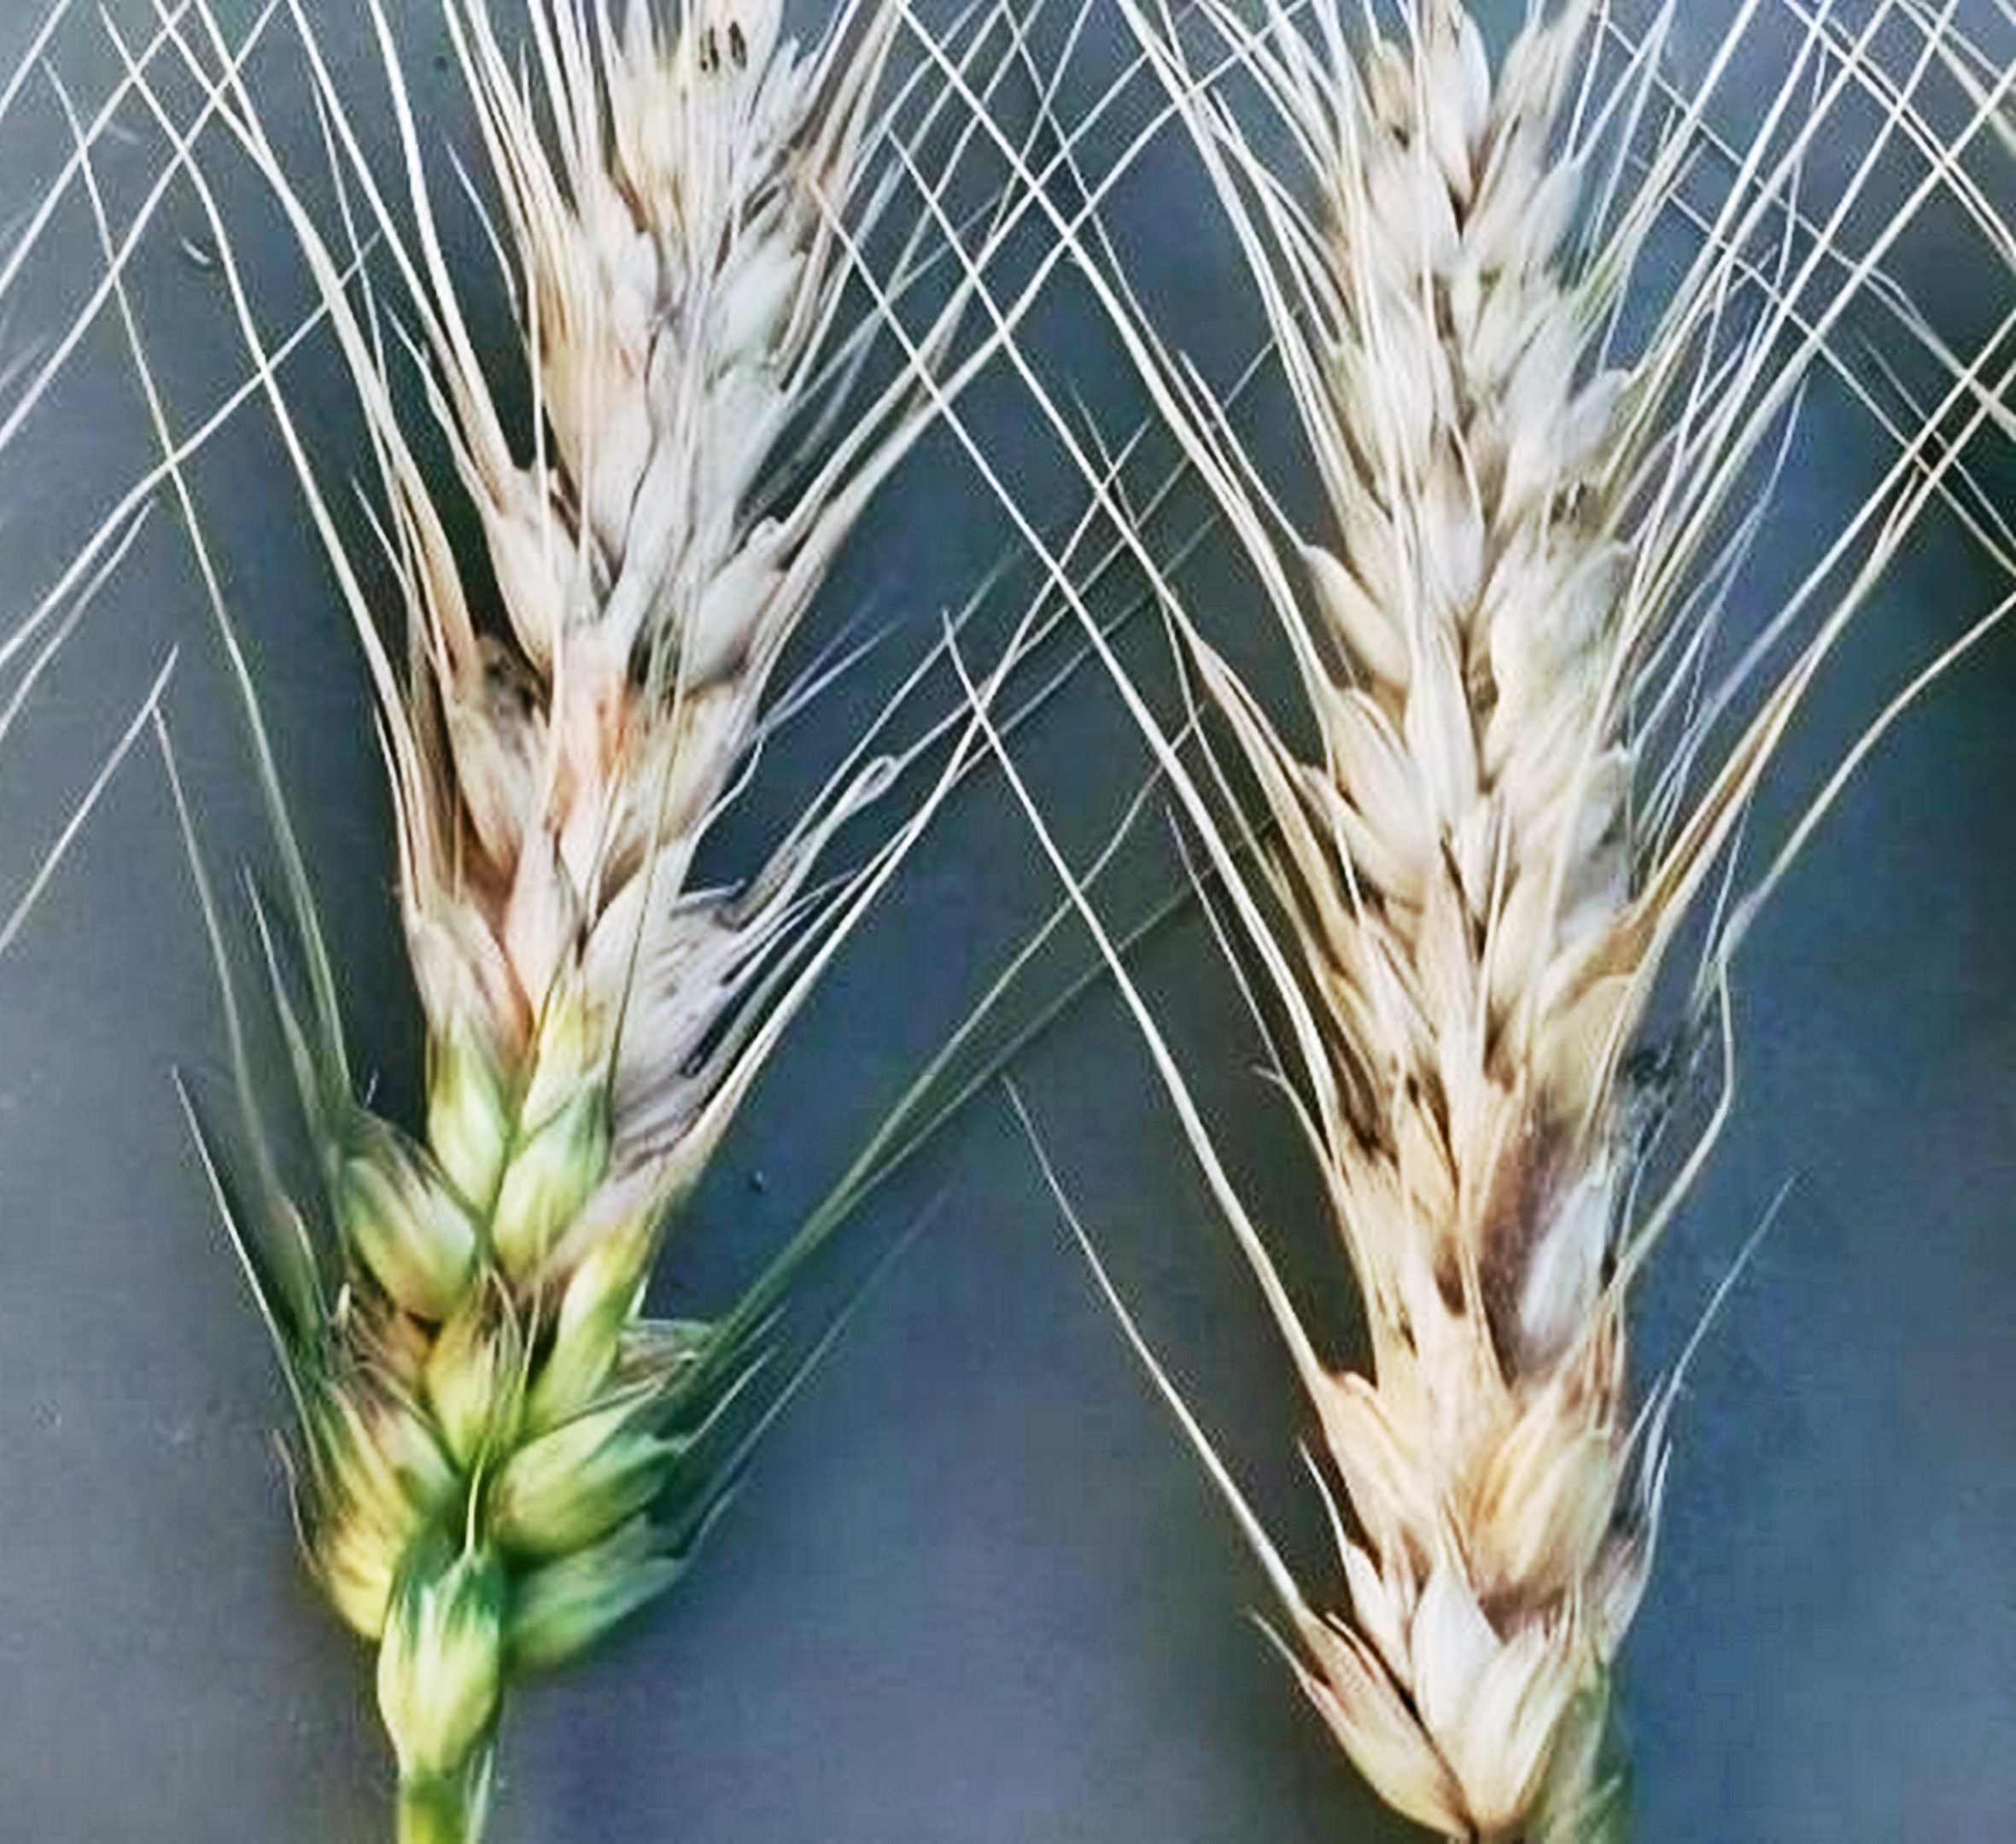Wheat scab: (1117, 90, 1763, 1844), (279, 5, 866, 1679)
